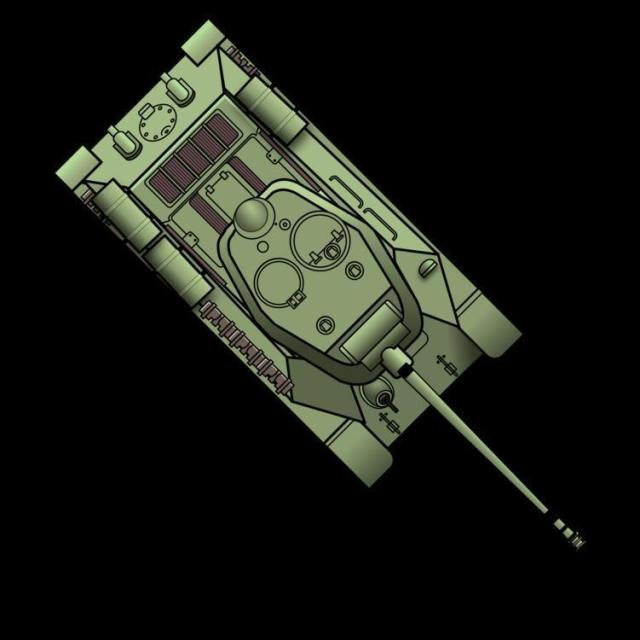Tanks: (36, 21, 553, 605)
